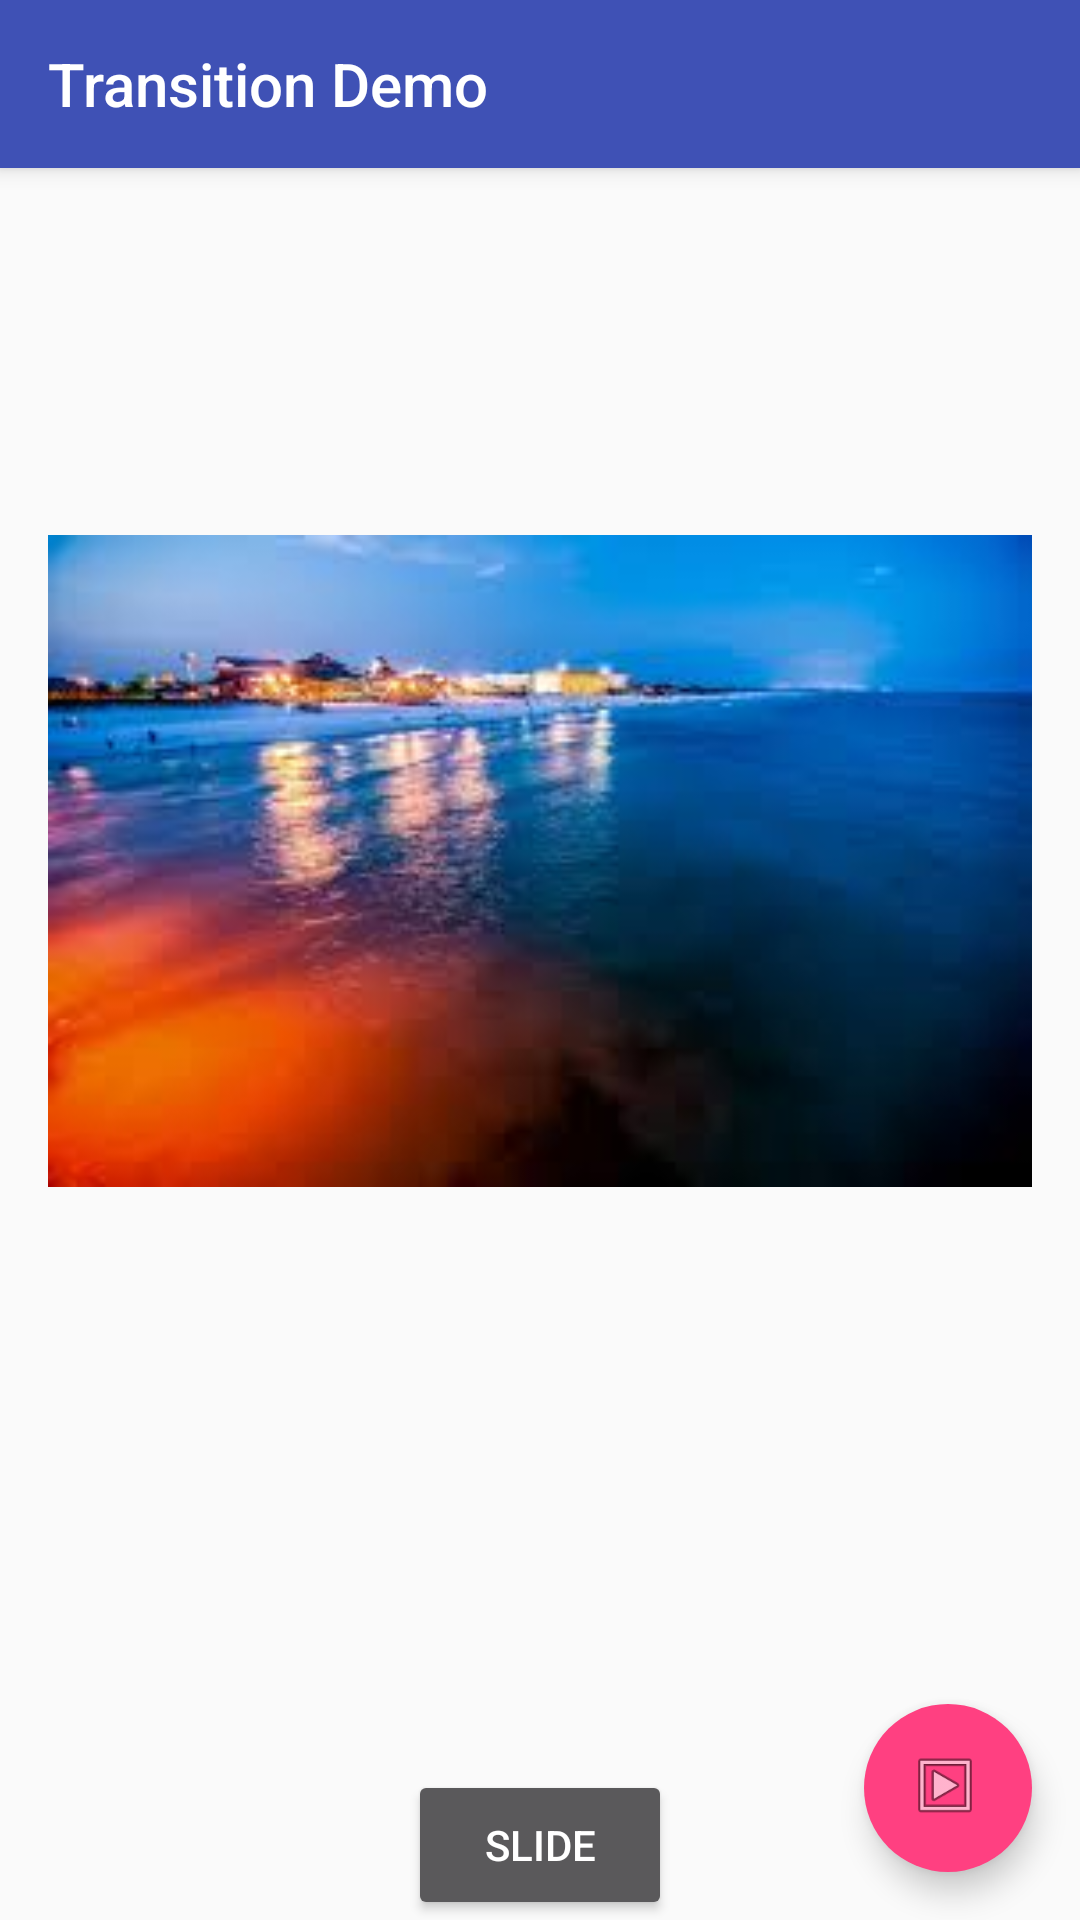

Point at icon controls on the screen. Image size 1080px×1920px, points as point (x, y).
slideshow: point (948, 1788)
